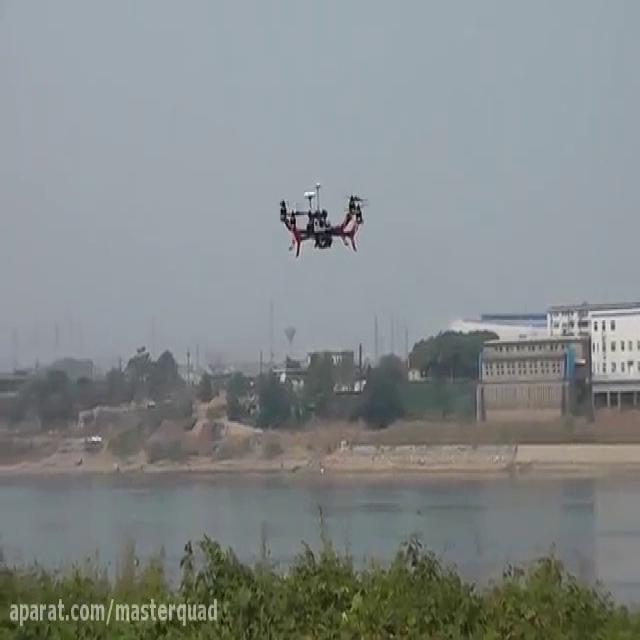drone: (275, 176, 371, 261)
